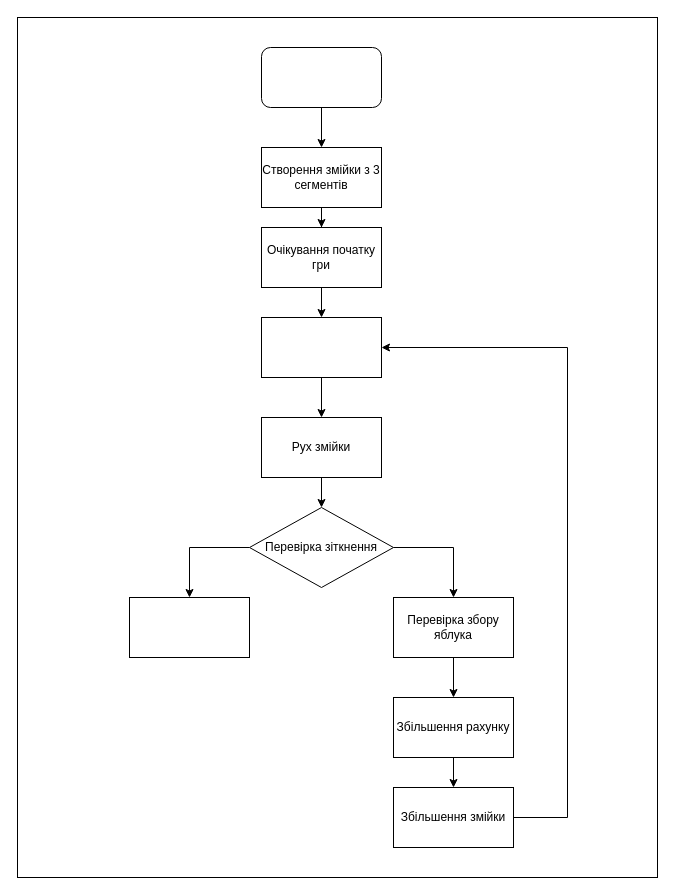
Image size: 675x895. Some labels were removed from this diagram. Here are the shapes that lost their labels. From the top down, the centre of each, then its label:
the point at 321,77: Початок гри
the point at 321,347: Генерація яблука
the point at 189,627: Екран програшу
